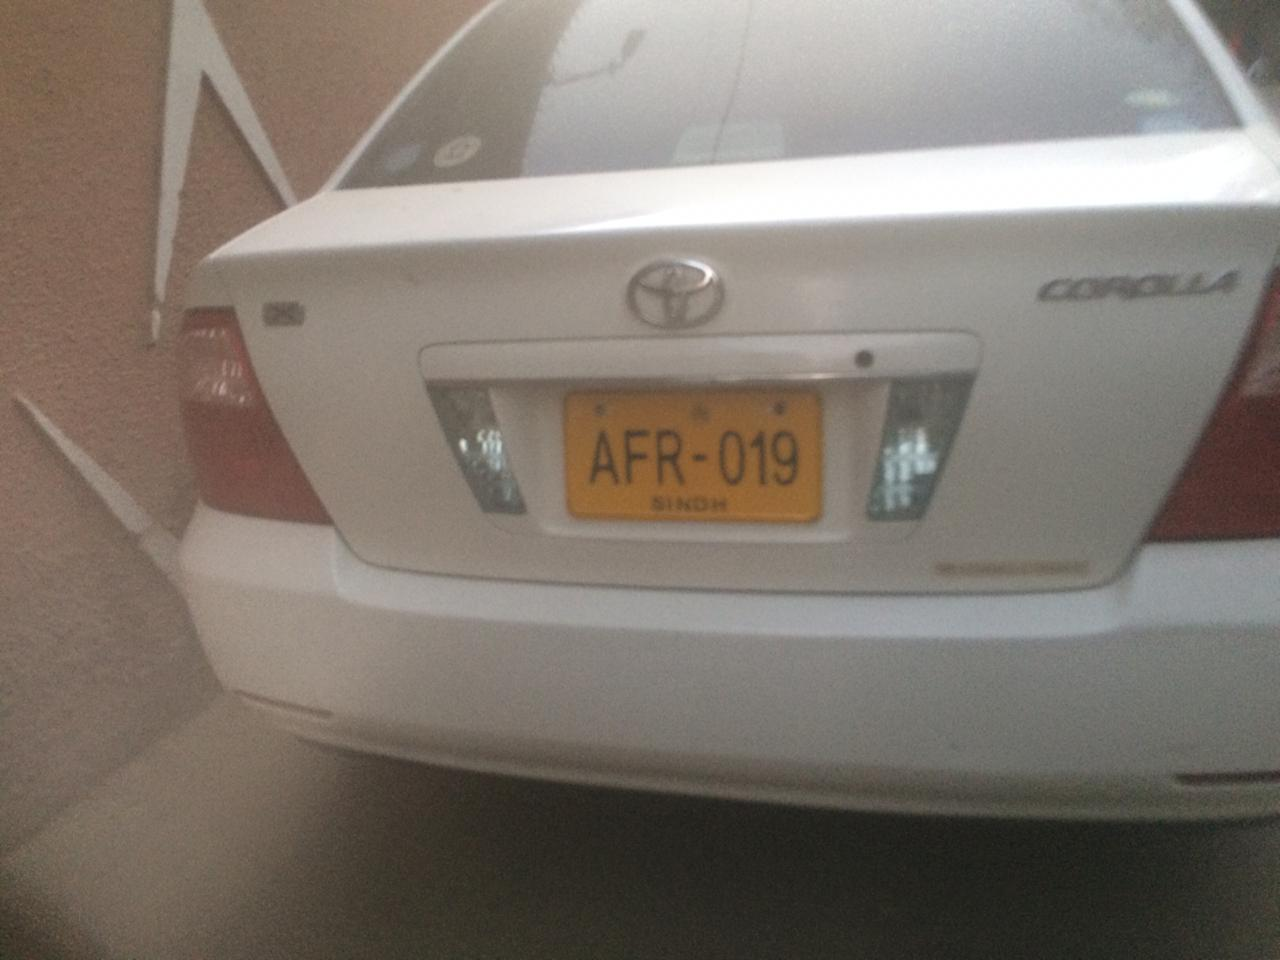license plate: (562, 390, 830, 525)
